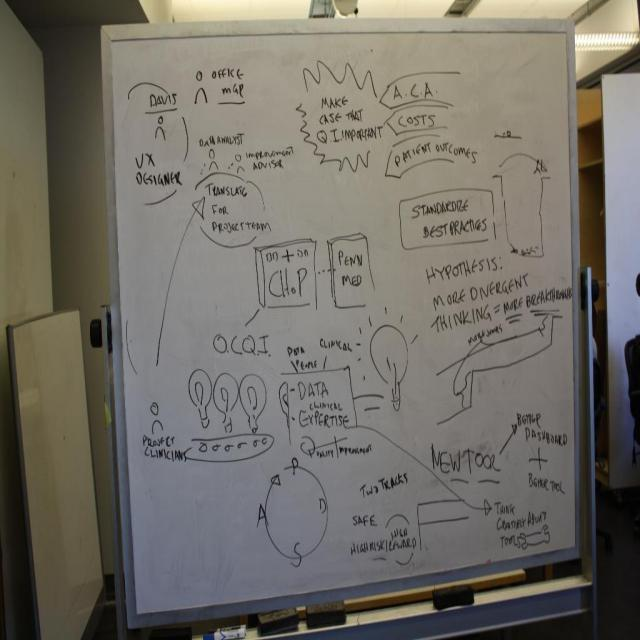Whiteboard: (99, 15, 583, 627)
